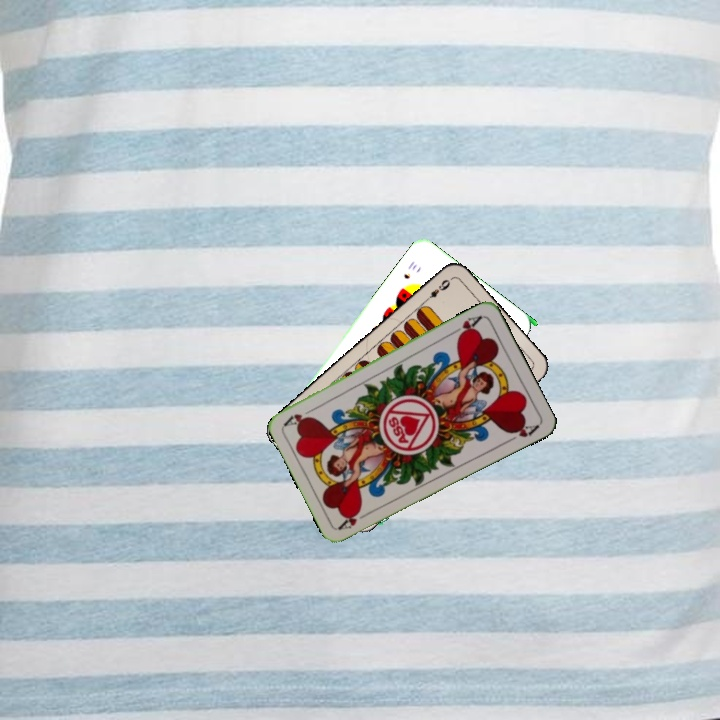E9: (420, 275, 453, 305)
HA: (447, 311, 485, 341), (335, 505, 373, 532)
S10: (399, 257, 420, 282)
